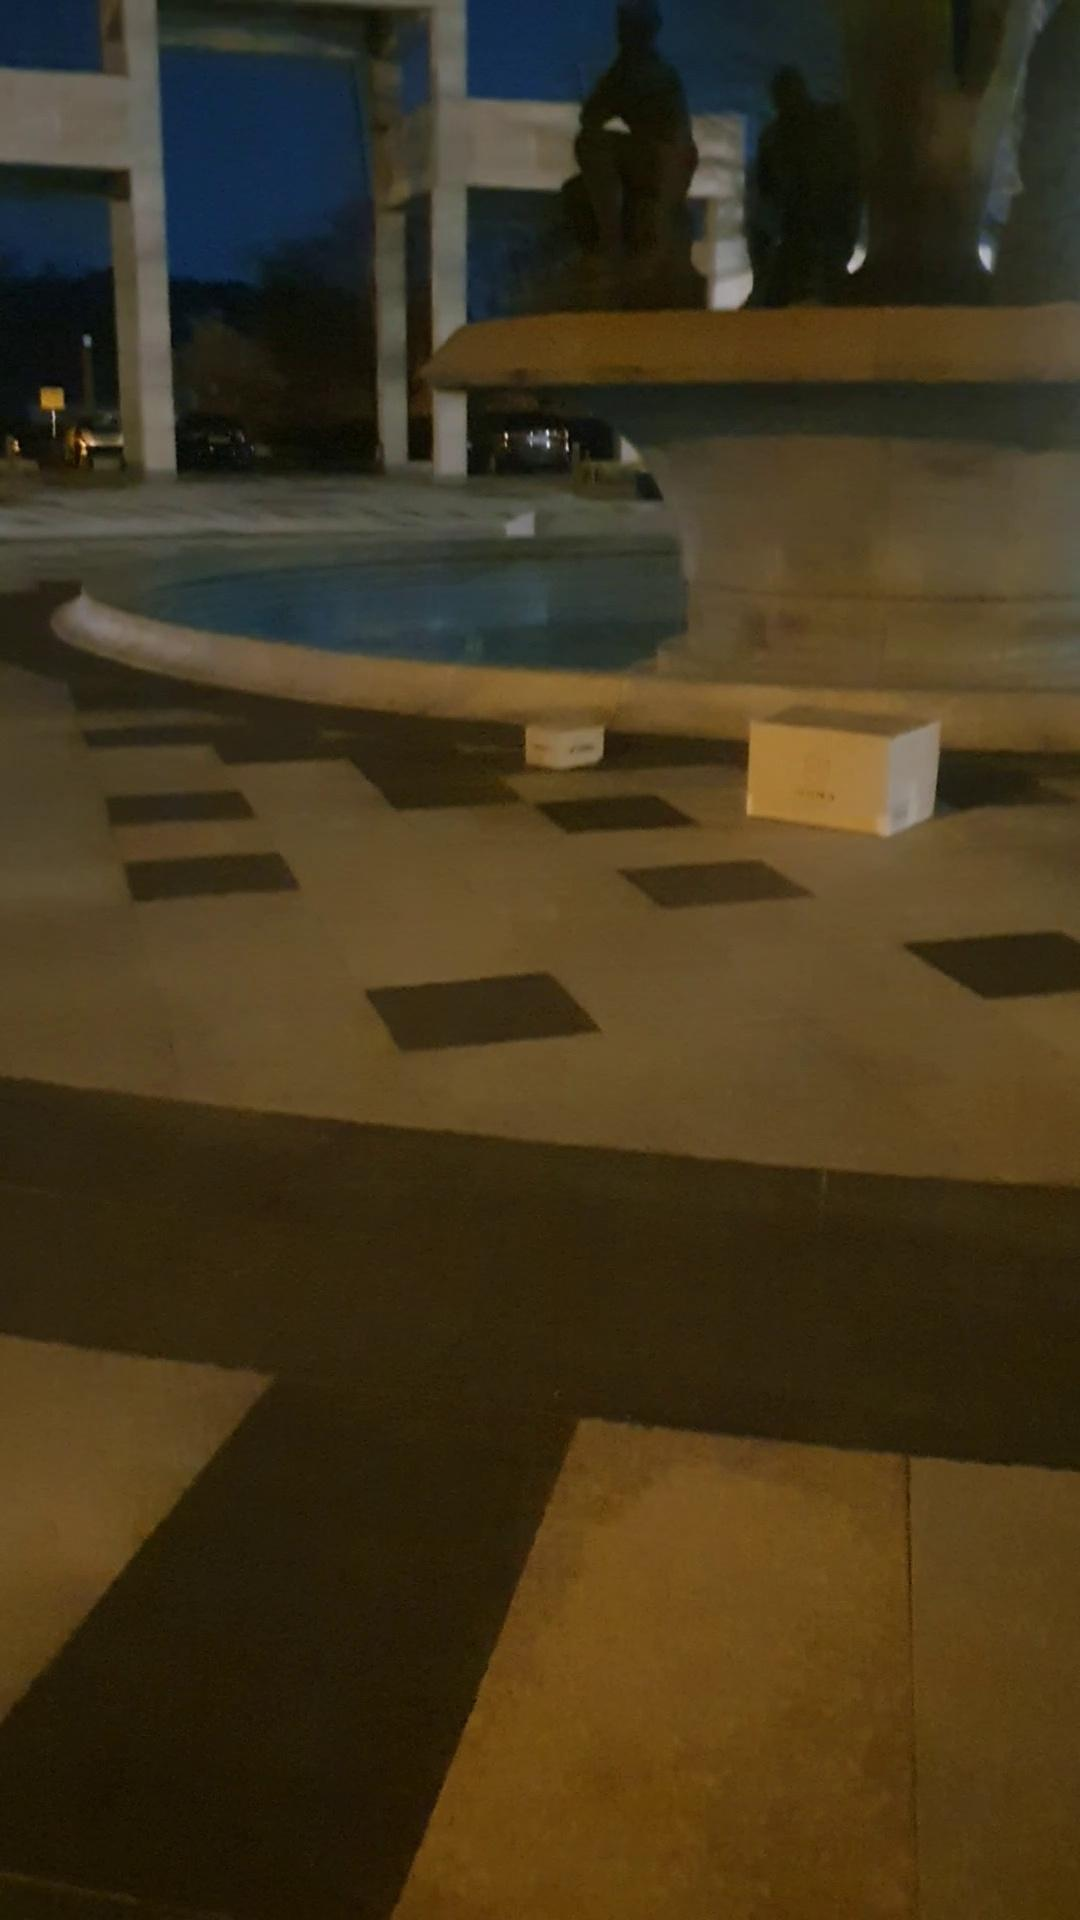Box: (748, 695, 947, 851), (512, 708, 613, 773)
